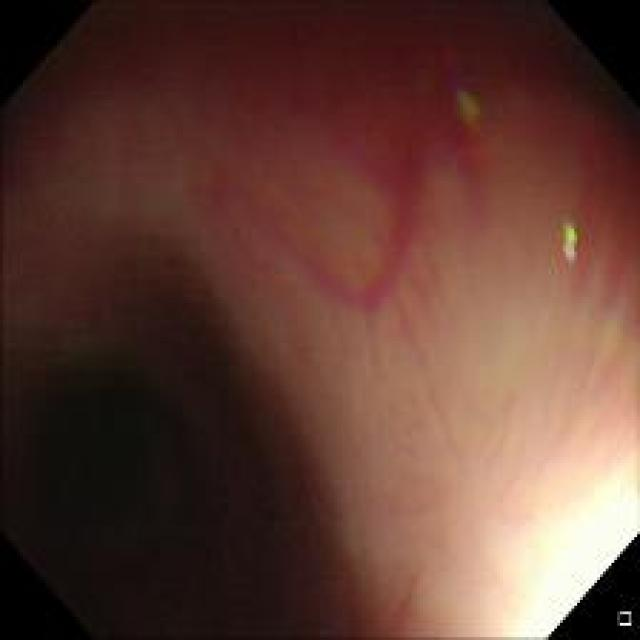color misalignment: (551, 204, 601, 282), (445, 66, 492, 131)
contrast: (21, 259, 356, 621)
saturation: (492, 475, 636, 630)
